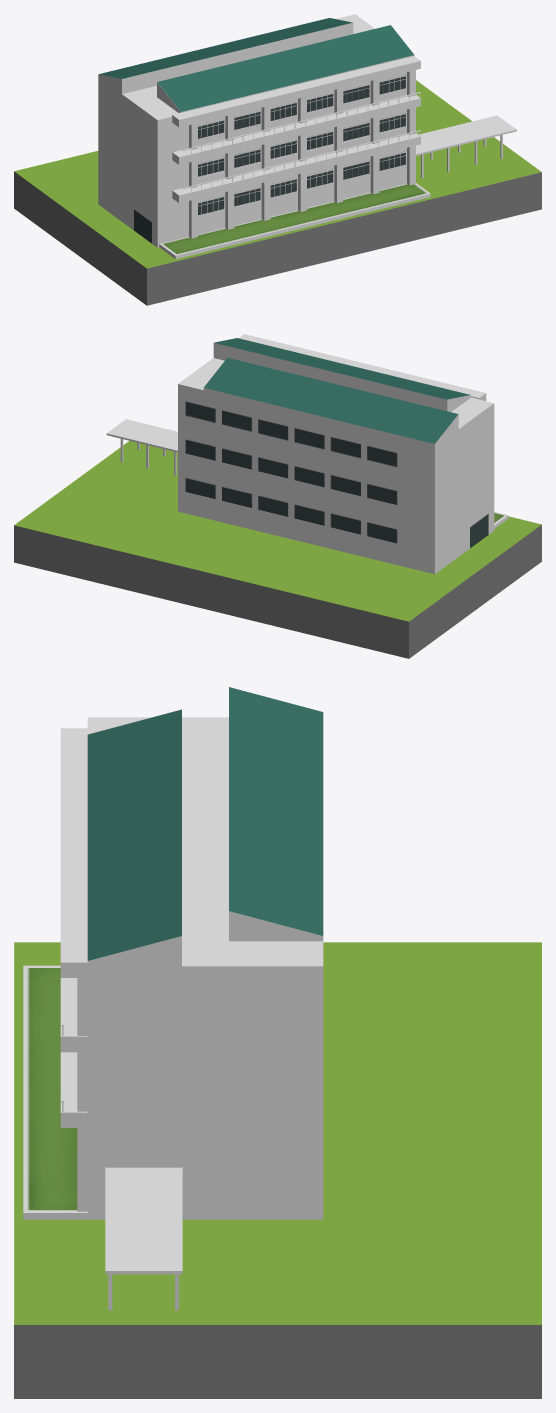
File: building02.dae
The picture shows the model from 3 angles, top to bottom: view 1: azimuth 30°, elevation 25°; view 2: azimuth 150°, elevation 25°; view 3: azimuth 270°, elevation 25°; orthographic projection. The views are drawn at different scales.
Parts seen in each view (by area): view 1: building02, ground02, brush_base03, balcony11, balcony12, balcony10, roof, colum17, colum16, colum13, colum14, colum18 (+2 smaller); view 2: building02, ground02, balcony12, roof; view 3: ground02, building02, brush_base03, roof, balcony12, colum12, balcony10, balcony11.
Boxes of the visible parts, x1=… form: building02: x1=98, y1=14, x2=414, y2=247; ground02: x1=14, y1=80, x2=541, y2=305; brush_base03: x1=159, y1=183, x2=430, y2=259; balcony11: x1=172, y1=92, x2=420, y2=164; balcony12: x1=172, y1=56, x2=420, y2=127; balcony10: x1=172, y1=130, x2=420, y2=203; roof: x1=416, y1=115, x2=516, y2=155; colum17: x1=225, y1=114, x2=234, y2=229; colum16: x1=261, y1=105, x2=270, y2=220; colum13: x1=370, y1=79, x2=379, y2=194; colum14: x1=334, y1=88, x2=343, y2=202; colum18: x1=189, y1=123, x2=197, y2=238; building02: x1=178, y1=338, x2=494, y2=574; ground02: x1=14, y1=441, x2=541, y2=658; balcony12: x1=239, y1=334, x2=486, y2=400; roof: x1=106, y1=419, x2=177, y2=452; ground02: x1=14, y1=942, x2=541, y2=1398; building02: x1=87, y1=687, x2=323, y2=1219; brush_base03: x1=23, y1=965, x2=89, y2=1219; roof: x1=105, y1=1167, x2=182, y2=1274; balcony12: x1=60, y1=728, x2=88, y2=977; colum12: x1=77, y1=978, x2=87, y2=1211; balcony10: x1=60, y1=1052, x2=87, y2=1127; balcony11: x1=60, y1=978, x2=87, y2=1052.
Bounding box in the file's own units: 23.07 × 10.04 × 13.44.
